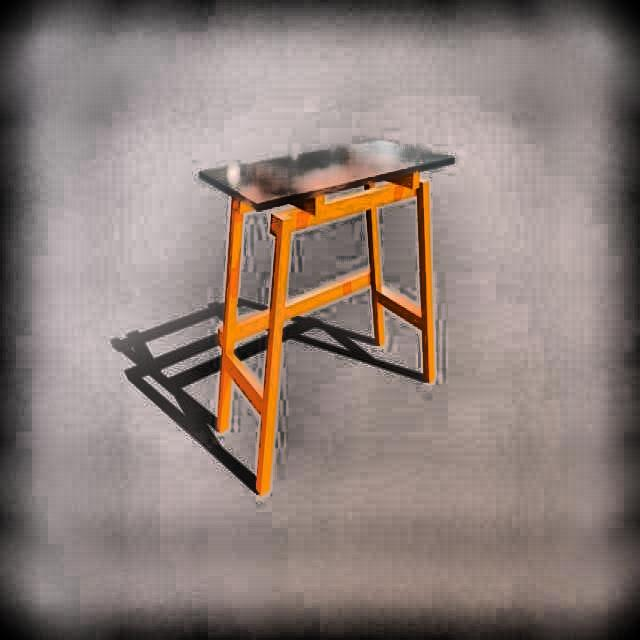mesa: (197, 133, 456, 500)
